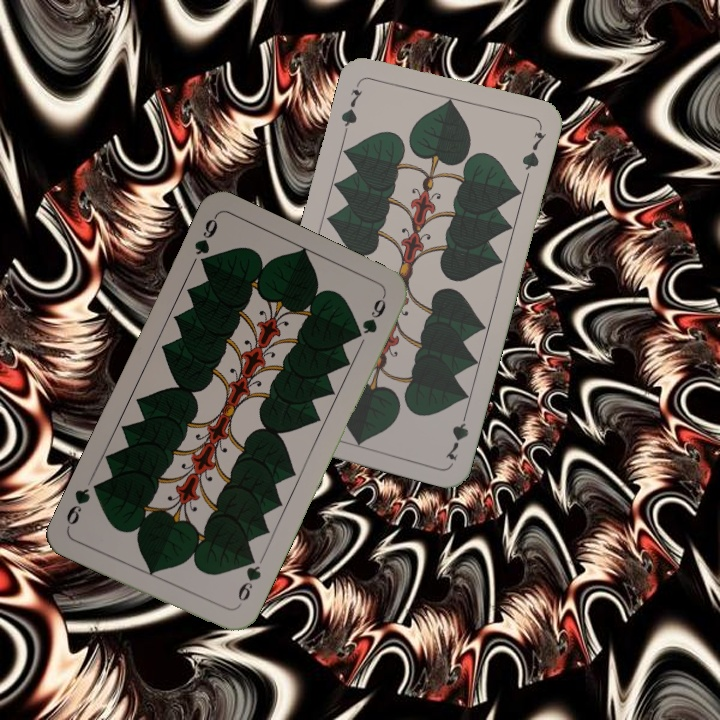G7: (441, 405, 472, 464), (337, 77, 365, 135)
G9: (190, 213, 221, 273), (233, 551, 264, 605)
